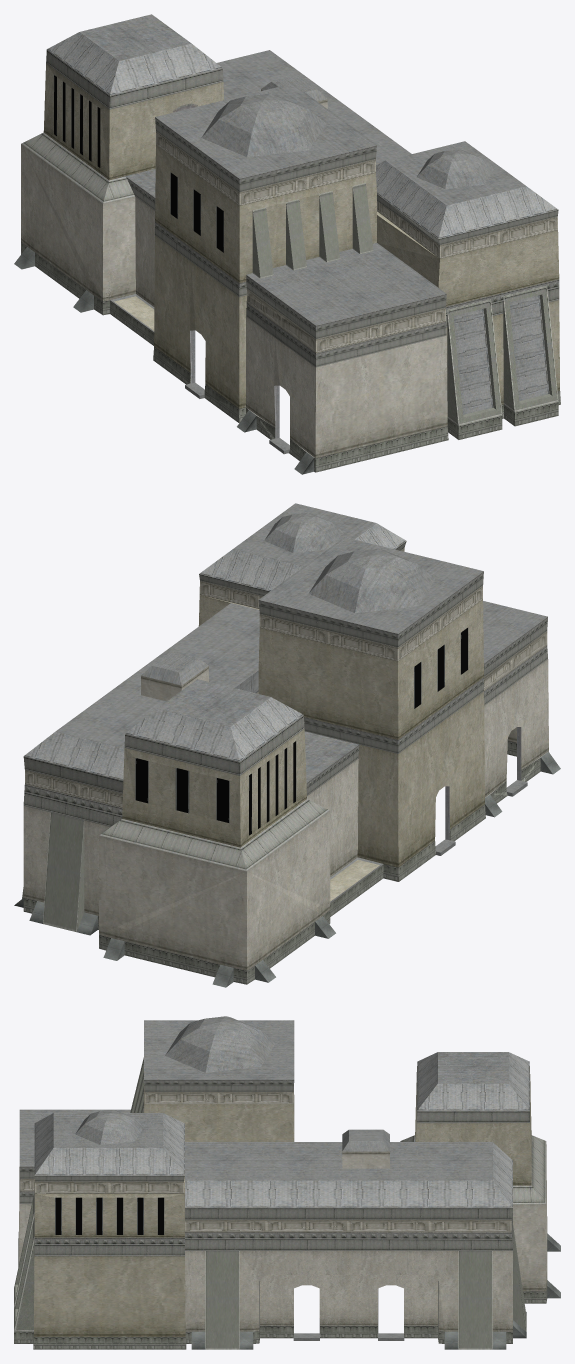
Rendered from thm_corl_imprv_historic_32x16_s01_r0_mesh_l1.fbx.
The picture shows the model from 3 angles, top to bottom: view 1: azimuth 30°, elevation 25°; view 2: azimuth 150°, elevation 25°; view 3: azimuth 270°, elevation 25°; orthographic projection. The views are drawn at different scales.
Visible parts, largest first — view 1: mesh_node; view 2: mesh_node; view 3: mesh_node.
Part boxes in pixels (x1,y1,x2,y2): mesh_node: [14, 14, 560, 474]; mesh_node: [14, 503, 560, 987]; mesh_node: [14, 1016, 560, 1349].
Bounding box in the file's own units: 16 × 15.78 × 32.
